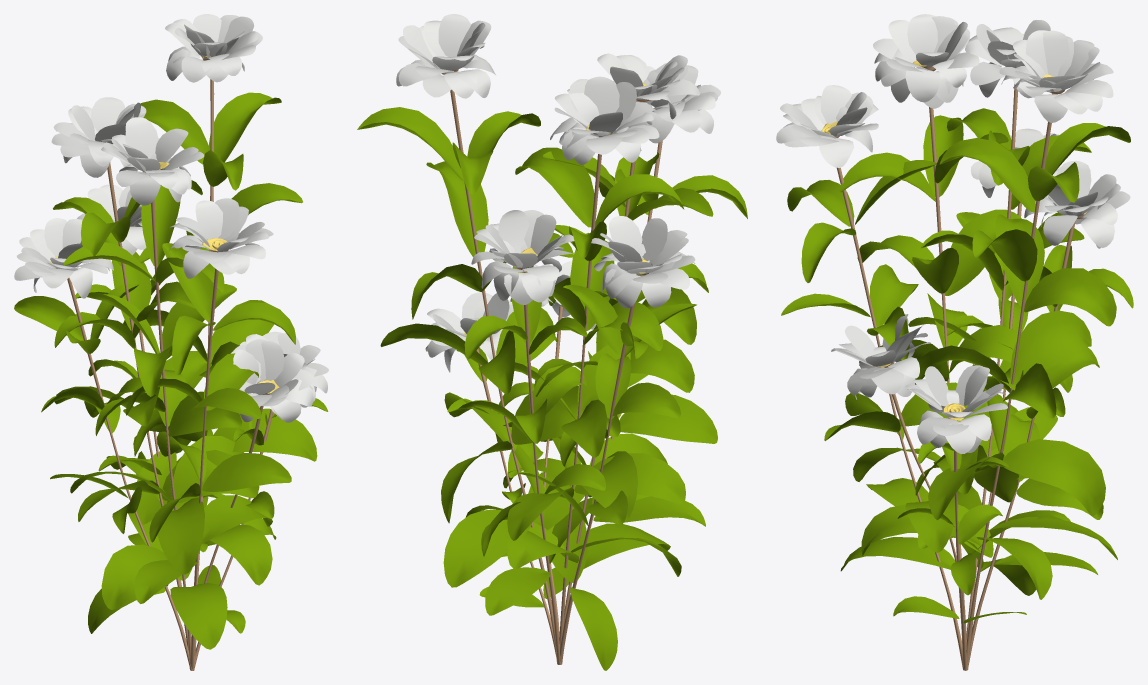
File: Yas Flower.fbx
The picture shows the model from 3 angles, left to right: view 1: azimuth 30°, elevation 25°; view 2: azimuth 150°, elevation 25°; view 3: azimuth 270°, elevation 25°; orthographic projection. The views are drawn at different scales.
Visible parts, largest first — view 1: Jasmine, Jasmine.001; view 2: Jasmine, Jasmine.001; view 3: Jasmine, Jasmine.001.
Part boxes in pixels (<box>): Jasmine: <box>14,14,328,670</box>; Jasmine.001: <box>194,339,313,660</box>; Jasmine: <box>357,14,747,670</box>; Jasmine.001: <box>510,261,596,637</box>; Jasmine: <box>776,14,1133,670</box>; Jasmine.001: <box>831,314,966,649</box>.
Size of the model in its own units: 144 by 294 by 144.
